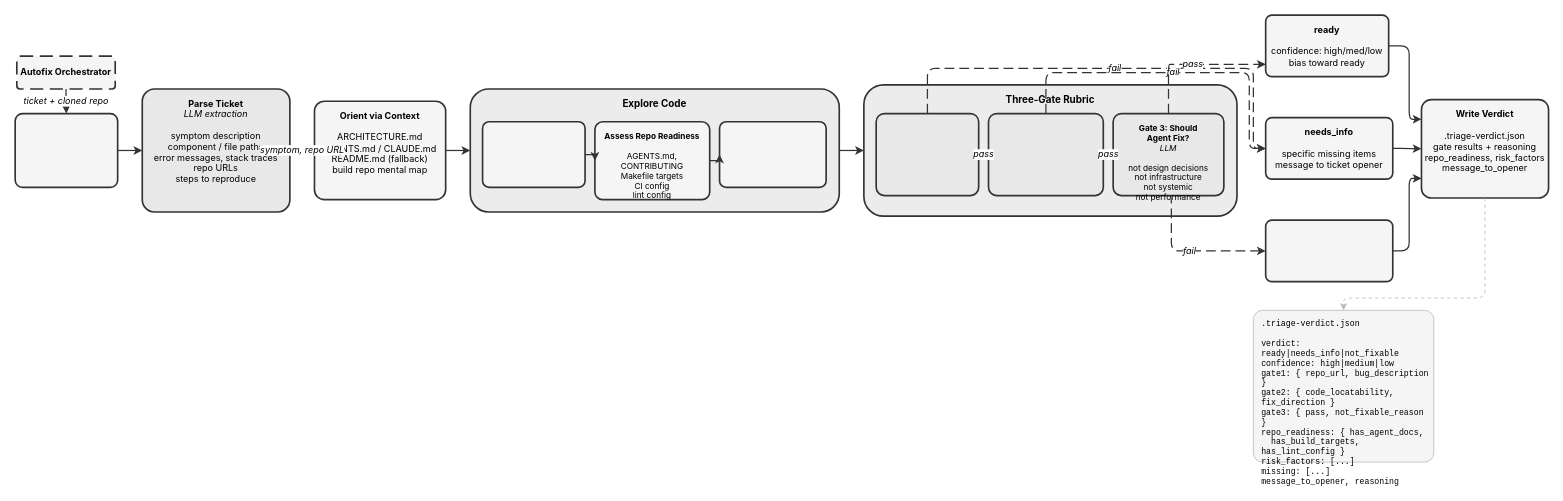
The diagram is 1563 pixels wide and 501 high, and some of its shapes have lost their labels. The shapes that lost their labels are listed below. From the top down, each one's centre as x and y in pixels, then its label:
point (66, 150): /autofix-triage Jira ticket content cloned target repo
point (533, 154): Locate Bug Area grep error messages find functions, CRDs confirm references
point (772, 154): Check Risk Factors test coverage git history / refactors cross-component impact
point (927, 154): Gate 1: Can Start? LLM repo URL exists ticket states what is broken
point (1045, 154): Gate 2: Can Find & Fix? LLM code is locatable correct behavior is unambiguous
point (1328, 250): not_fixable Gate 3 category reason suggest human intervention
